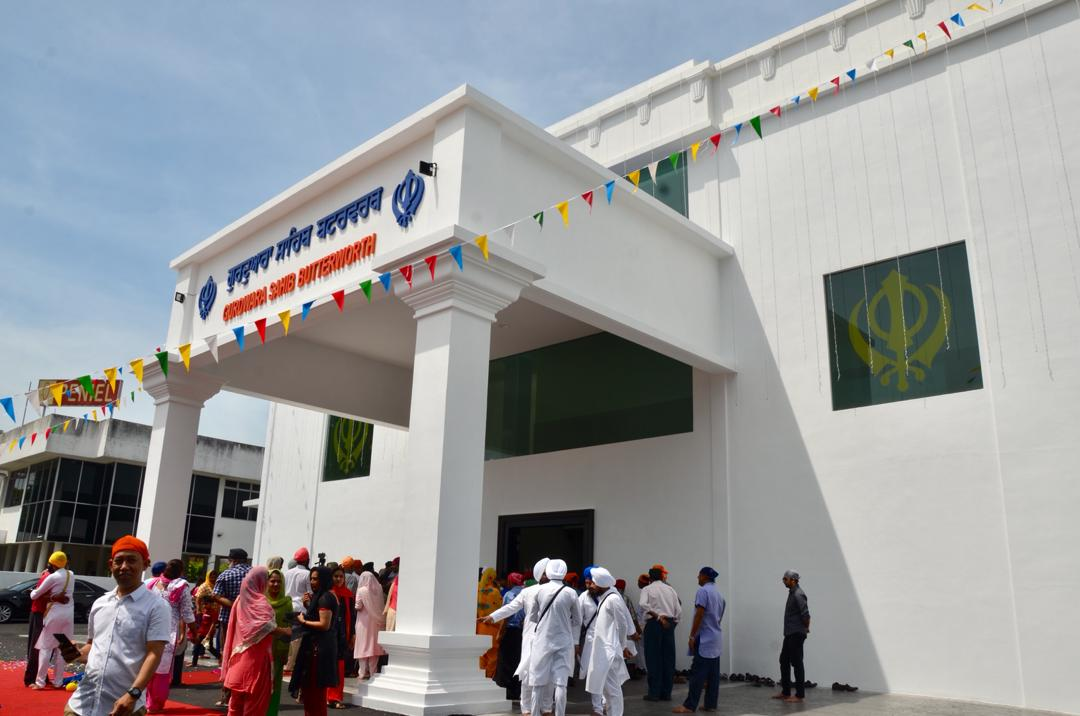Gurdwara: (114, 81, 938, 591)
